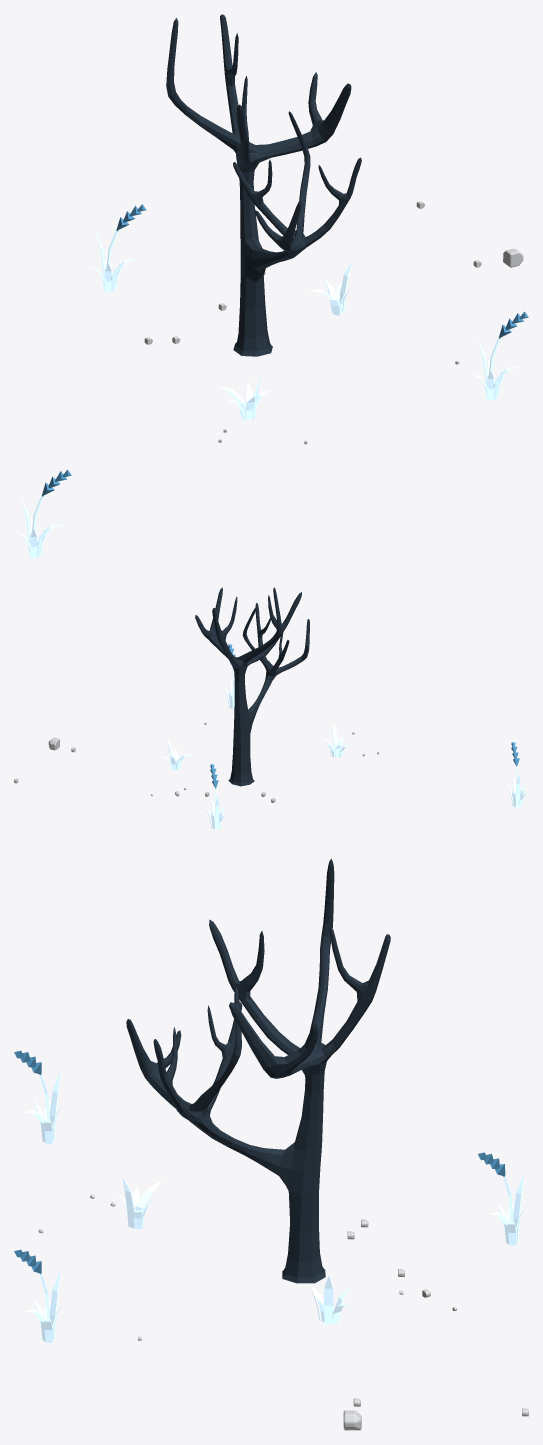
File: treeDead3.glb
3 views of the same model, one above another, from view 1: azimuth 30°, elevation 25°; view 2: azimuth 150°, elevation 25°; view 3: azimuth 270°, elevation 25° (orthographic). The views are drawn at different scales.
Parts seen in each view (by area): view 1: CommonTree_Dead_2, plant.006, plant.001, plant.002, plant.022, plant.009; view 2: CommonTree_Dead_2, plant.002, plant.001, plant.022, plant.009; view 3: CommonTree_Dead_2, plant.001, plant.006, plant.002, plant.022, plant.009.
Part boxes in pixels (<box>): CommonTree_Dead_2: <box>166,14,361,356</box>; plant.006: <box>471,311,528,400</box>; plant.001: <box>14,469,71,558</box>; plant.002: <box>89,204,146,292</box>; plant.022: <box>214,372,271,420</box>; plant.009: <box>307,260,352,315</box>; CommonTree_Dead_2: <box>195,587,309,786</box>; plant.002: <box>204,764,226,829</box>; plant.001: <box>506,742,527,807</box>; plant.022: <box>323,722,350,757</box>; plant.009: <box>159,737,193,770</box>; CommonTree_Dead_2: <box>126,858,390,1283</box>; plant.001: <box>14,1050,63,1143</box>; plant.006: <box>14,1249,62,1342</box>; plant.002: <box>478,1152,526,1245</box>; plant.022: <box>118,1177,161,1229</box>; plant.009: <box>309,1272,348,1324</box>.
Size of the model in its own units: 47 by 26.72 by 29.05.
